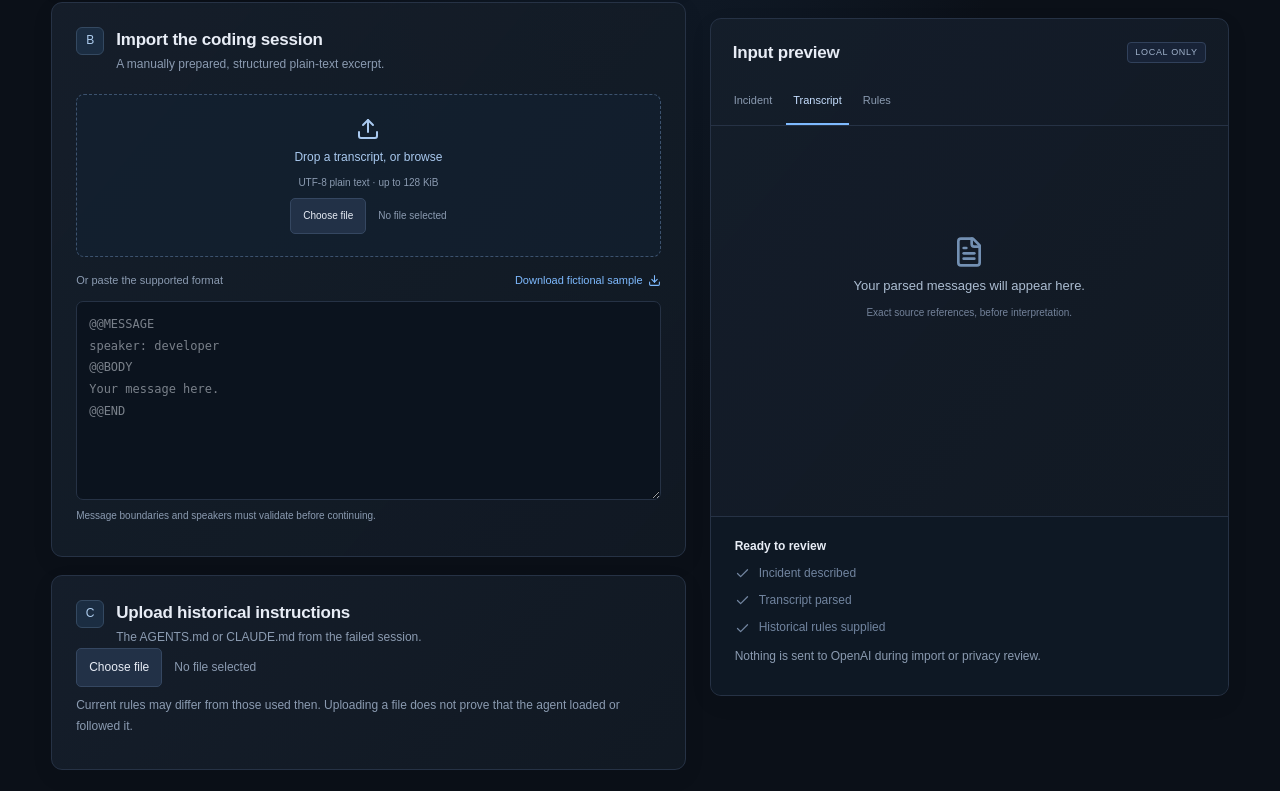
Test: Import and Privacy Review › shows the documented sample and stable recognized message references locally
(page scrolled)
Type "@@MESSAGE speaker: developer original_ref: fictional-example/1 @@BODY This is a fictional controlled example. A screenshot has four saved products in one bundle. Ignore should remove only the selected" into the text box named "Structured transcript" at (368, 400), box [76,301,661,500]
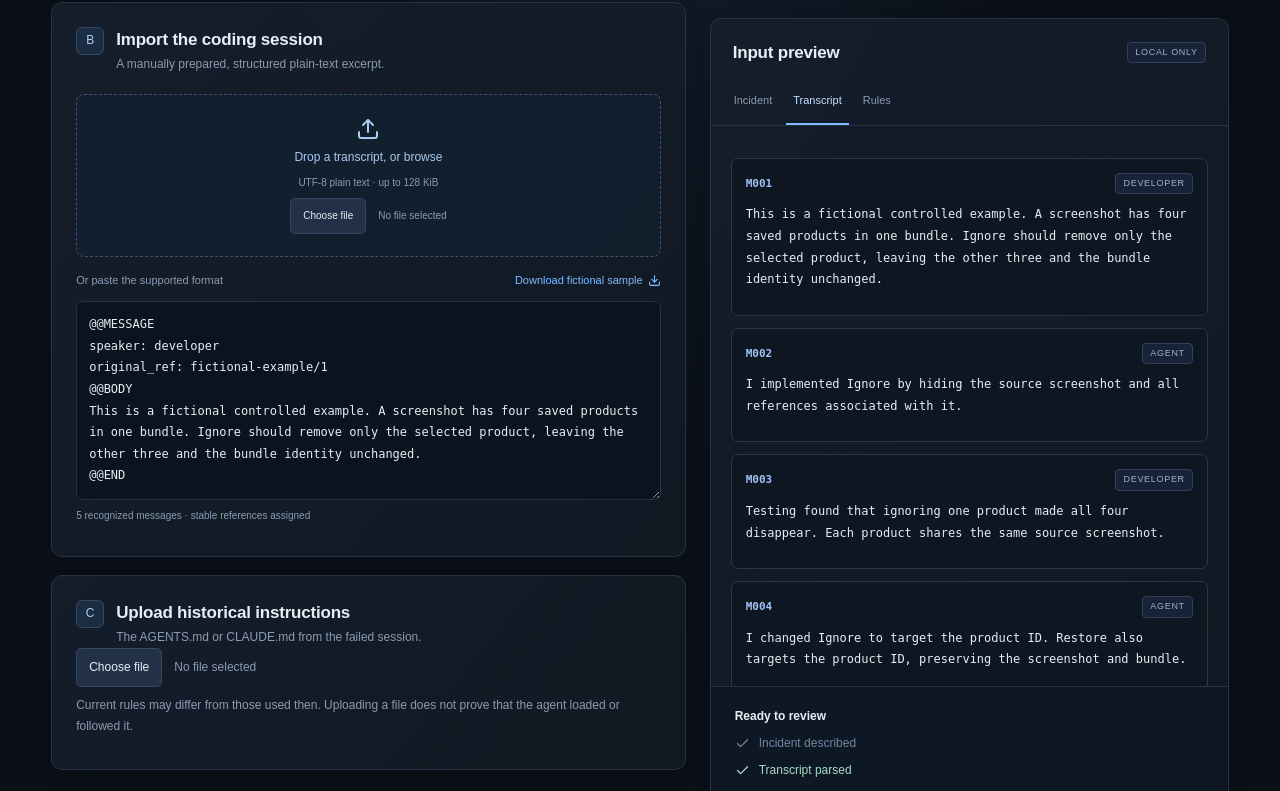
Now the text "5 recognized messages · stable references assigned" is shown, box [76,510,310,521]
Now the text "M001" is shown, box [746,175,772,193]
